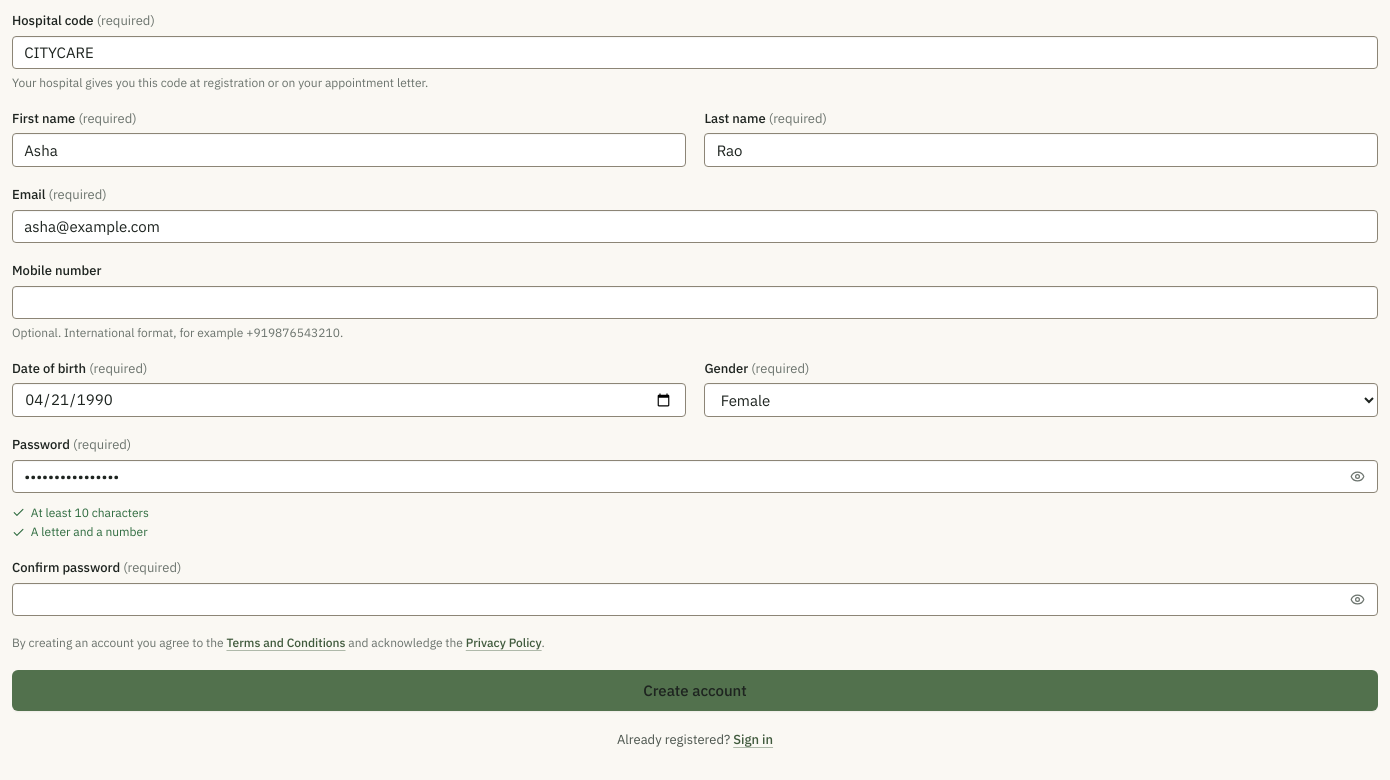
Test case: RegisterForm › shows an unknown hospital code on the field
Earlier steps of the test are not shown.
Step 1. Type "Correct-horse-42" into the password field labelled "Confirm password (required)" → (695, 600), box [12,583,1378,616]
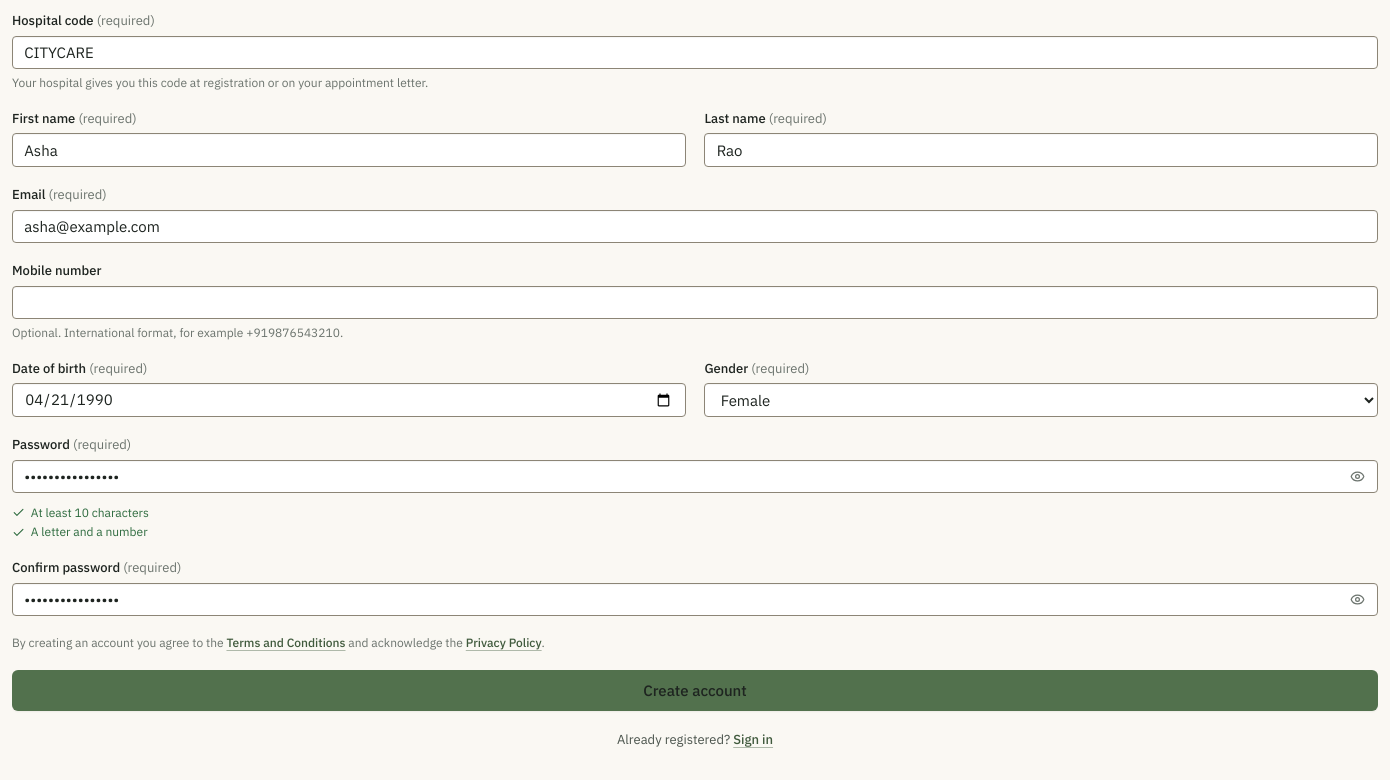
Step 2. Click the button "Create account" → (695, 691), box [12,670,1378,711]
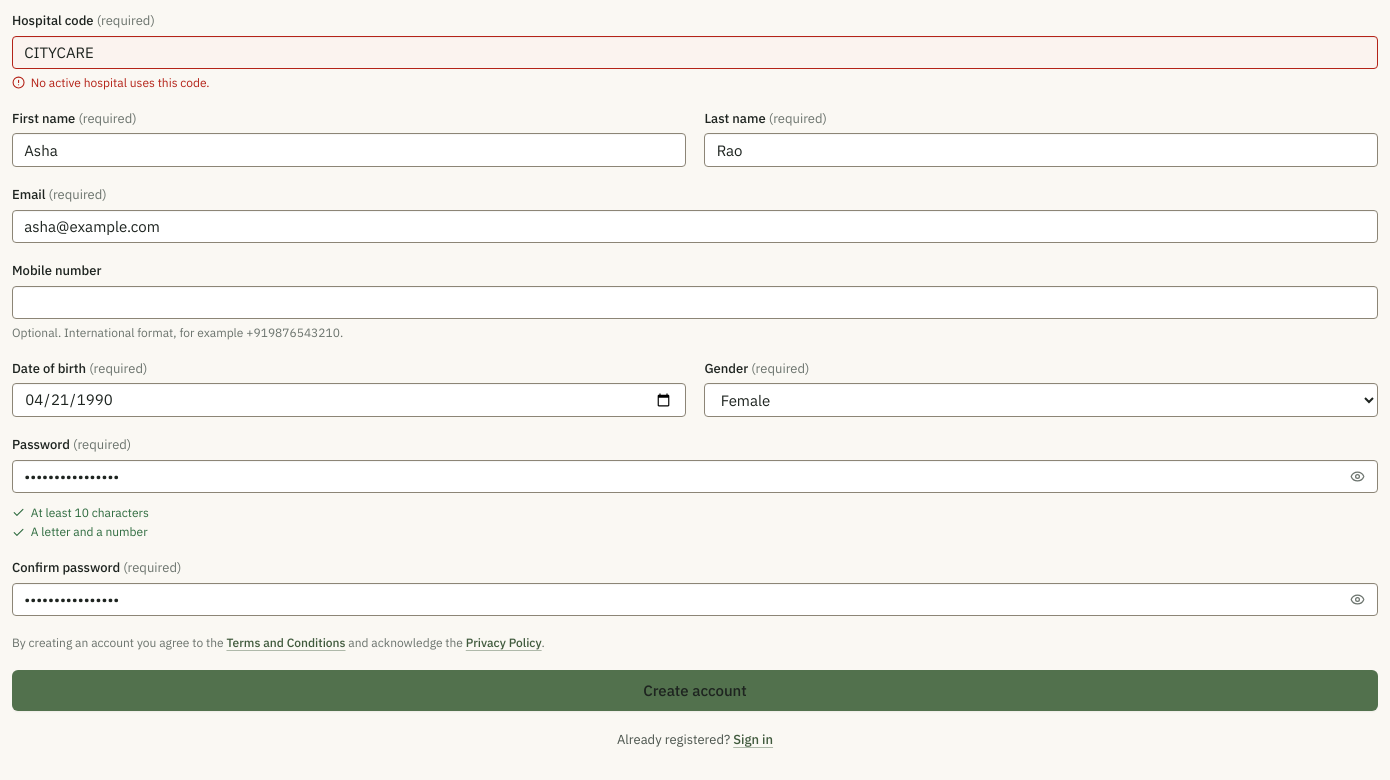
Expected: the text "No active hospital uses this code." is shown, [12,75,210,90]
